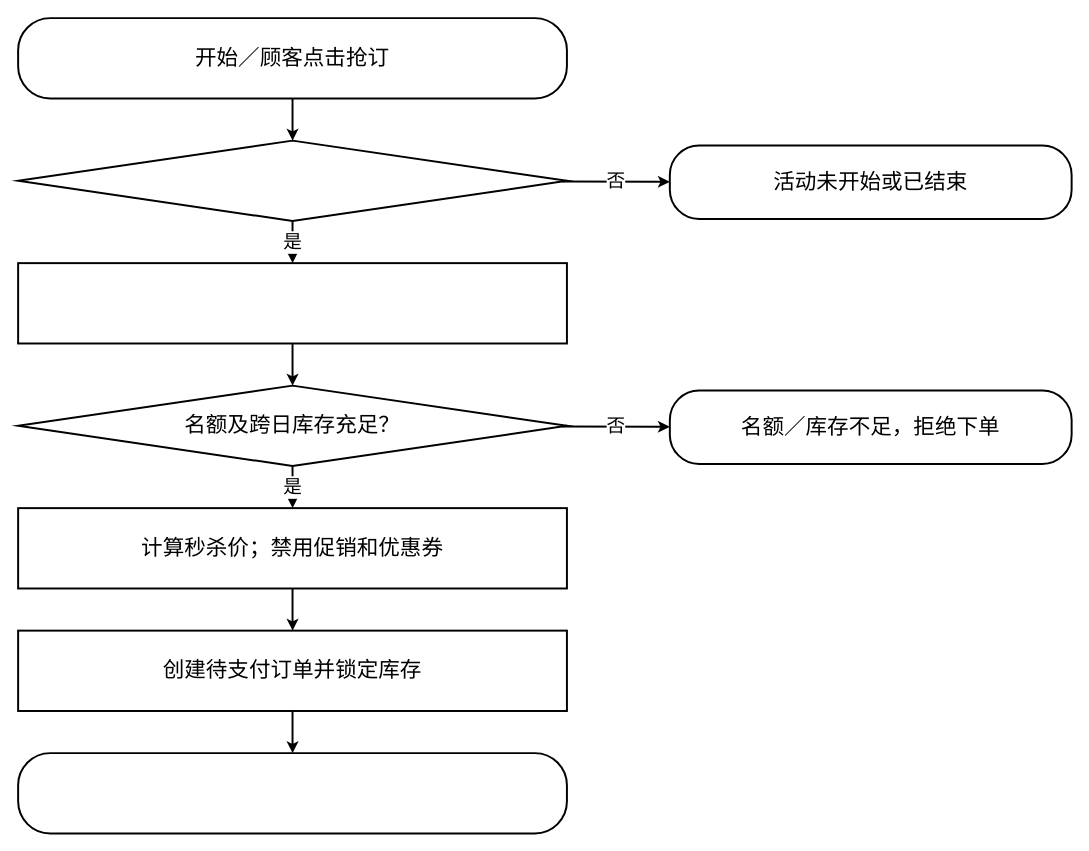
Some shapes in this 1089 by 851 pixel diagram are drawn without their labels. Each missing label, with the centre of its shape:
"提交事务；返回支付倒计时" belongs at (292,793).
"活动有效且房型、日期匹配？" belongs at (292,180).
"锁定活动行并统计已占名额" belongs at (292,303).
